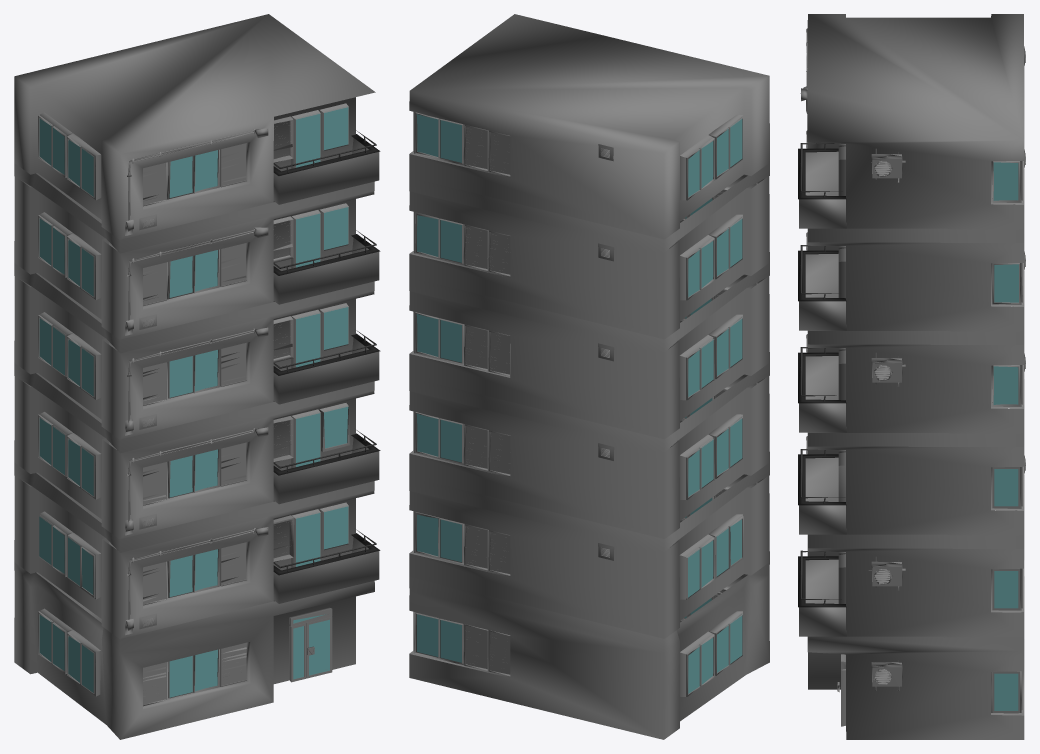
File: apartment_05_LOD1.fbx
3 renders of one model, left to right at view 1: azimuth 30°, elevation 25°; view 2: azimuth 150°, elevation 25°; view 3: azimuth 270°, elevation 25°, orthographic. The views are drawn at different scales.
Visible parts, largest first — view 1: LOD1; view 2: LOD1; view 3: LOD1.
Part boxes in pixels (x1,y1,x2,y2): LOD1: [14, 14, 380, 739]; LOD1: [409, 14, 769, 739]; LOD1: [798, 14, 1025, 739].
Bounding box in the file's own units: 1107 × 2303 × 793.
